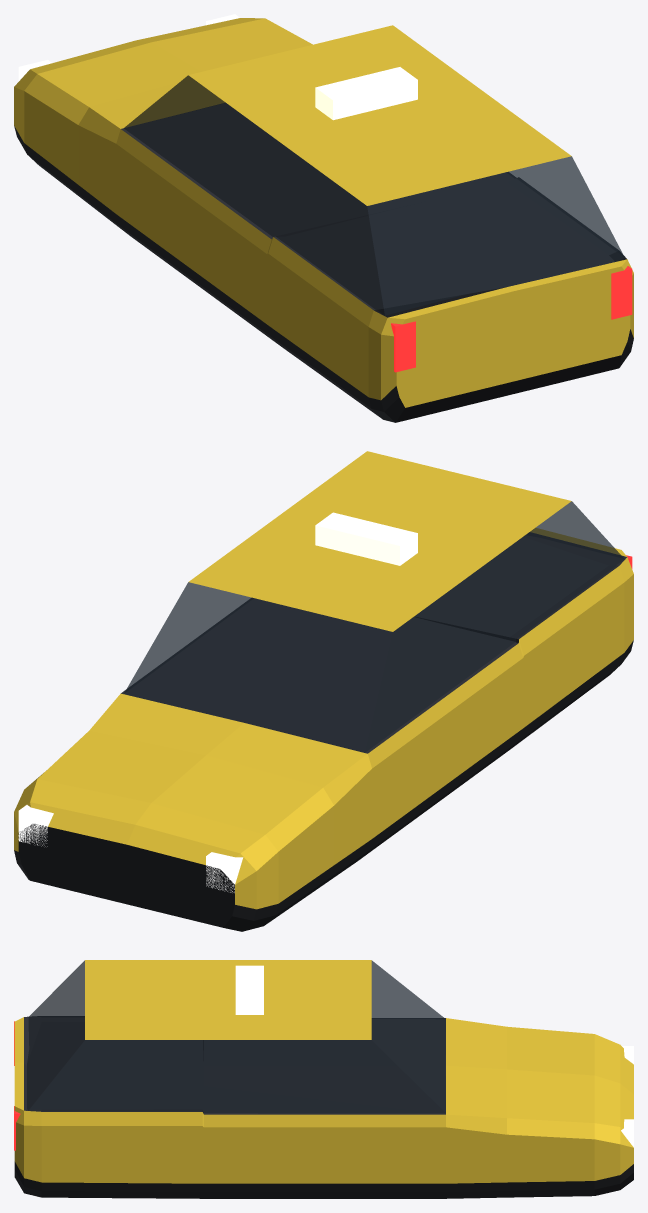
Rendered from taxi_lod.glb.
3 renders of one model, top to bottom at view 1: azimuth 30°, elevation 25°; view 2: azimuth 150°, elevation 25°; view 3: azimuth 270°, elevation 25°, orthographic. The views are drawn at different scales.
Visible parts, largest first — view 1: Body; view 2: Body; view 3: Body.
Part boxes in pixels (bbox=[...]): Body: bbox=[14, 14, 633, 422]; Body: bbox=[14, 451, 633, 931]; Body: bbox=[14, 960, 633, 1198].
Size of the model in its own units: 1.75 by 1.4 by 4.59.
